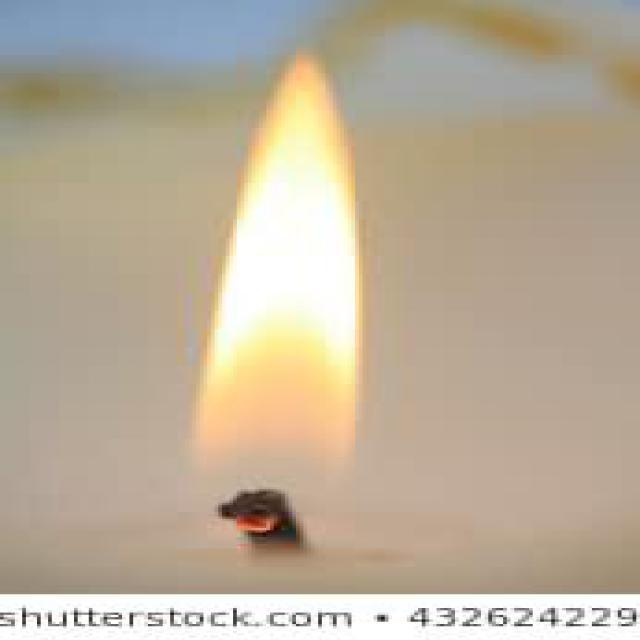Fire: (192, 51, 366, 506)
